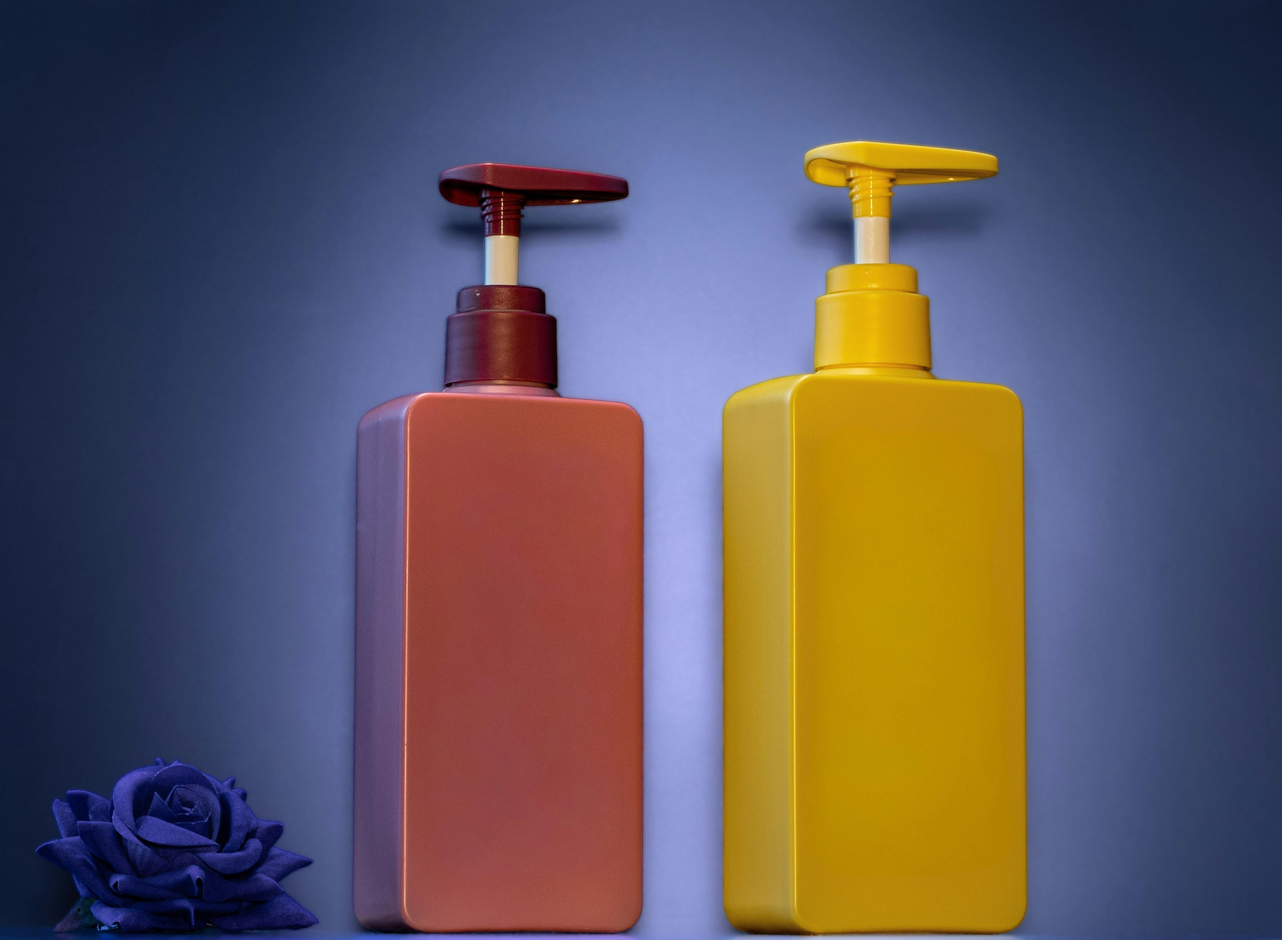Bottle-Detection: (705, 121, 1099, 938), (305, 121, 699, 935)
